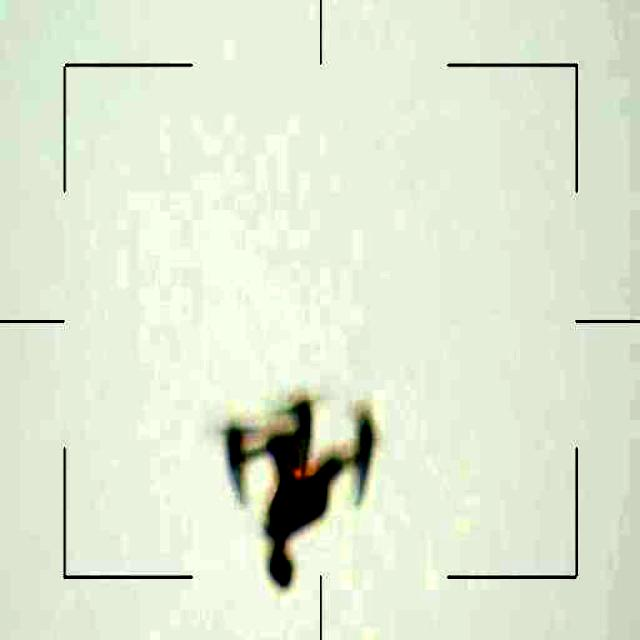bird: (202, 375, 394, 590)
